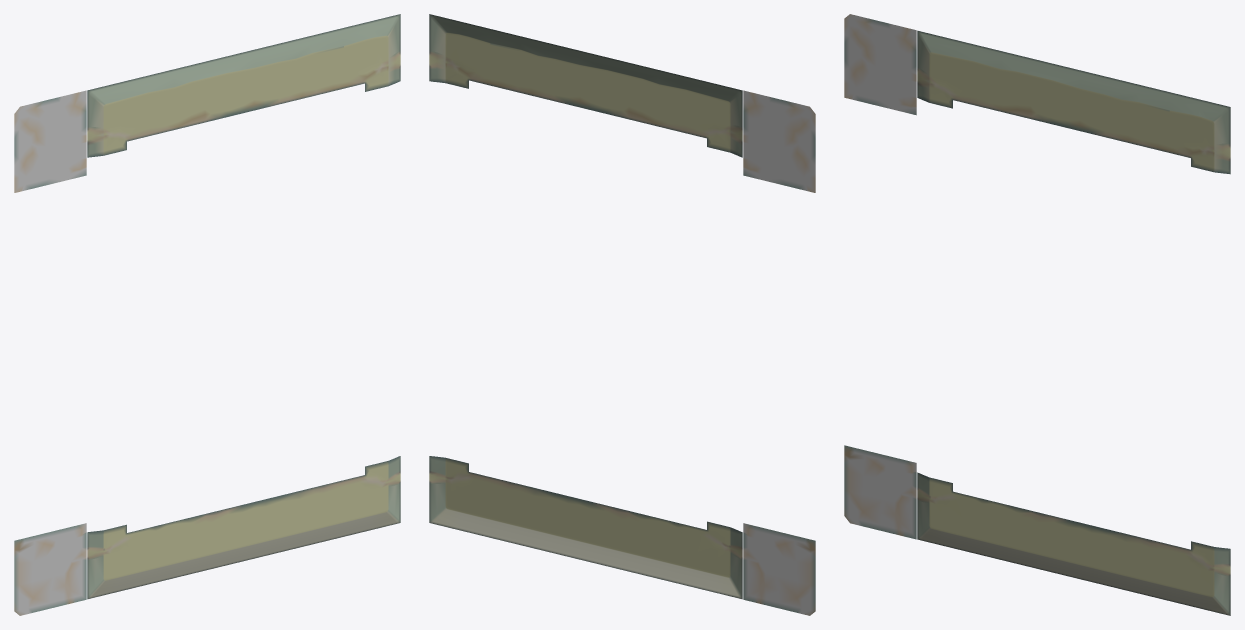
Rendered from SM_000220_ground01_grass01.fbx.
3 renders of one model, left to right at view 1: azimuth 30°, elevation 25°; view 2: azimuth 150°, elevation 25°; view 3: azimuth 330°, elevation 25°, orthographic.
Parts seen in each view (by area): view 1: SM_000220.001; view 2: SM_000220.001; view 3: SM_000220.001.
Part boxes in pixels (x1,y1,x2,y2): SM_000220.001: (14,14,400,615); SM_000220.001: (429,14,815,615); SM_000220.001: (844,14,1230,615).
Size of the model in its own units: 63.75 by 80.3 by 0.6295.
